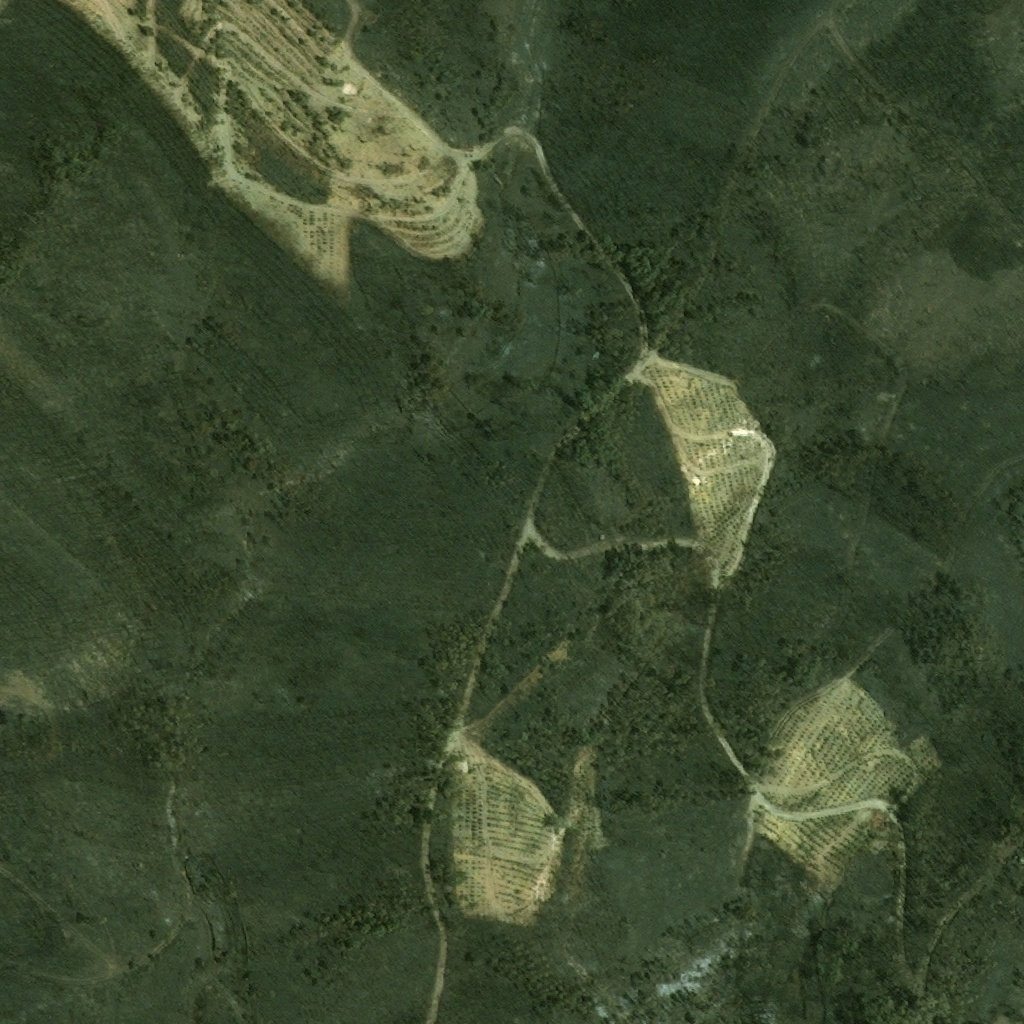4 un-classified: (1010, 850, 1023, 867)
